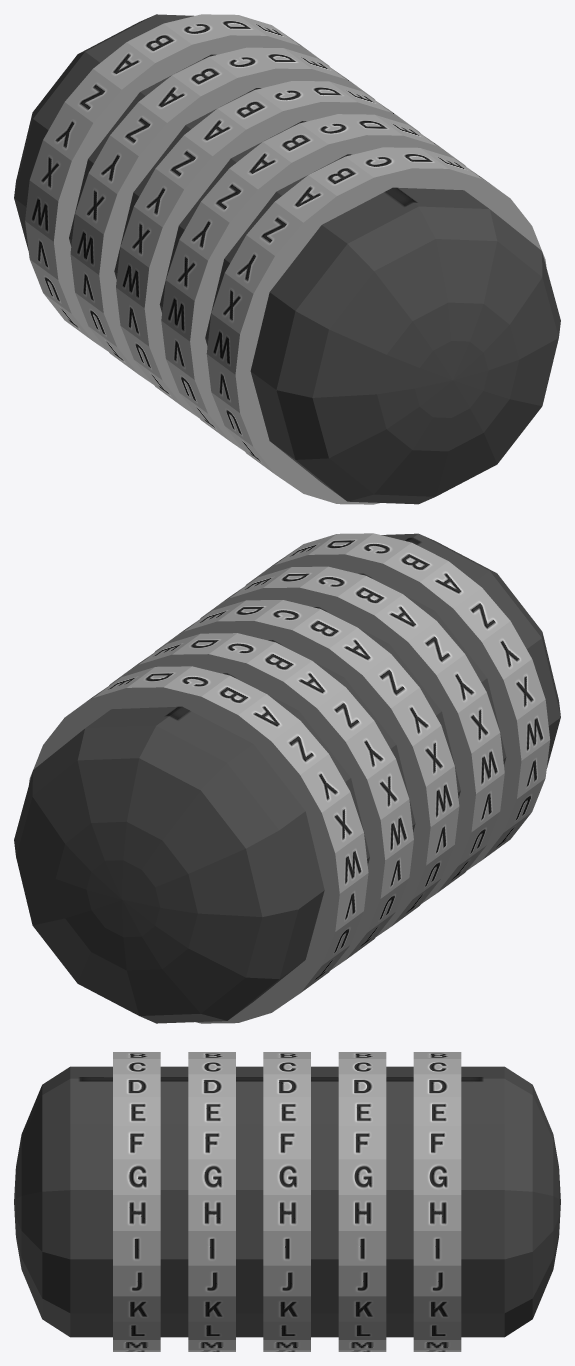
File: obj_criptext_v3.FBX
3 views of the same model, one above another, from view 1: azimuth 30°, elevation 25°; view 2: azimuth 150°, elevation 25°; view 3: azimuth 270°, elevation 25° (orthographic). The views are drawn at different scales.
Parts seen in each view (by area): view 1: obj_criptext_base, obj_criptext_ring_1_of_5, obj_criptext_ring_2_of_5, obj_criptext_ring_5_of_5, obj_criptext_ring_4_of_5, obj_criptext_ring_3_of_5; view 2: obj_criptext_base, obj_criptext_ring_5_of_5, obj_criptext_ring_4_of_5, obj_criptext_ring_2_of_5, obj_criptext_ring_1_of_5, obj_criptext_ring_3_of_5; view 3: obj_criptext_base, obj_criptext_ring_4_of_5, obj_criptext_ring_5_of_5, obj_criptext_ring_1_of_5, obj_criptext_ring_2_of_5, obj_criptext_ring_3_of_5.
Part boxes in pixels (x1,y1,x2,y2): obj_criptext_base: (14,14,560,504); obj_criptext_ring_1_of_5: (206,147,546,504); obj_criptext_ring_2_of_5: (161,114,465,450); obj_criptext_ring_5_of_5: (25,14,329,350); obj_criptext_ring_4_of_5: (70,47,374,384); obj_criptext_ring_3_of_5: (116,81,420,417); obj_criptext_base: (14,533,560,1023); obj_criptext_ring_5_of_5: (29,666,368,1023); obj_criptext_ring_4_of_5: (109,633,413,970); obj_criptext_ring_2_of_5: (200,566,504,903); obj_criptext_ring_1_of_5: (245,533,550,870); obj_criptext_ring_3_of_5: (154,600,459,936); obj_criptext_base: (14,1066,560,1337); obj_criptext_ring_4_of_5: (338,1052,386,1351); obj_criptext_ring_5_of_5: (413,1052,461,1351); obj_criptext_ring_1_of_5: (113,1052,160,1351); obj_criptext_ring_2_of_5: (188,1052,235,1351); obj_criptext_ring_3_of_5: (263,1052,310,1351).
Size of the model in its own units: 59.49 by 59.06 by 108.
Materials: 1 (1 with a texture image).
